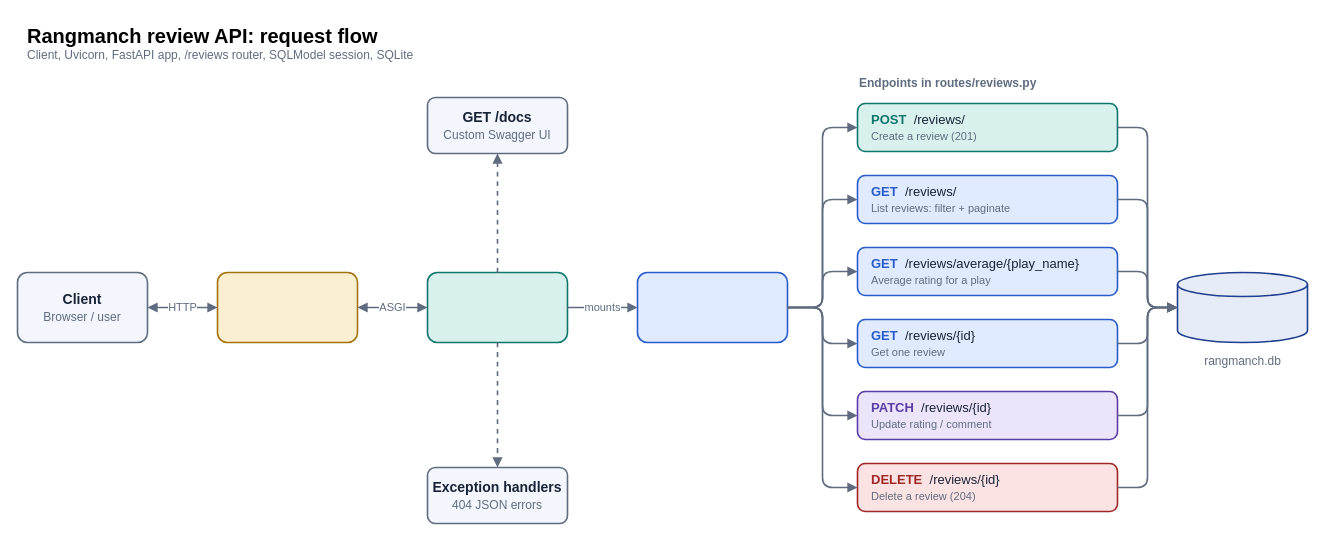
Image size: 1326x541. Some labels were removed from this diagram. Here are the shapes that lost their labels. From the top down, the centre of each, then its label:
the point at 287,307: Uvicorn ASGI server :8000
the point at 497,307: FastAPI app main.py
the point at 712,307: APIRouter prefix /reviews
the point at 1242,307: SQLite via SQLModel
